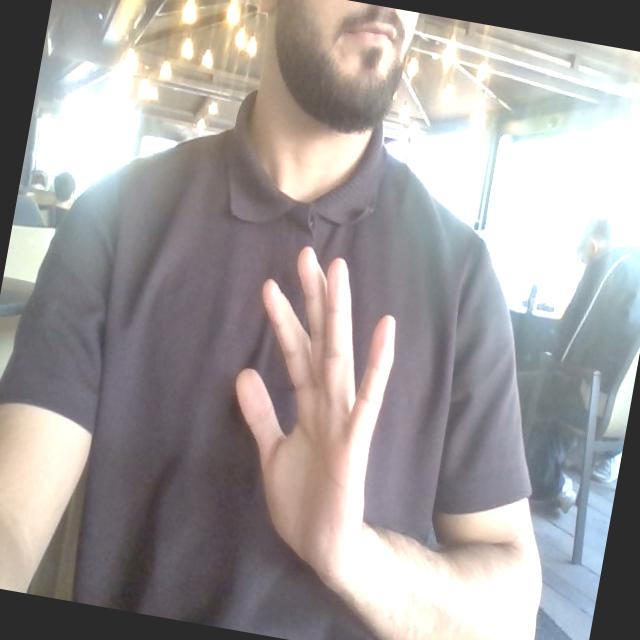Hand: (236, 248, 394, 579)
